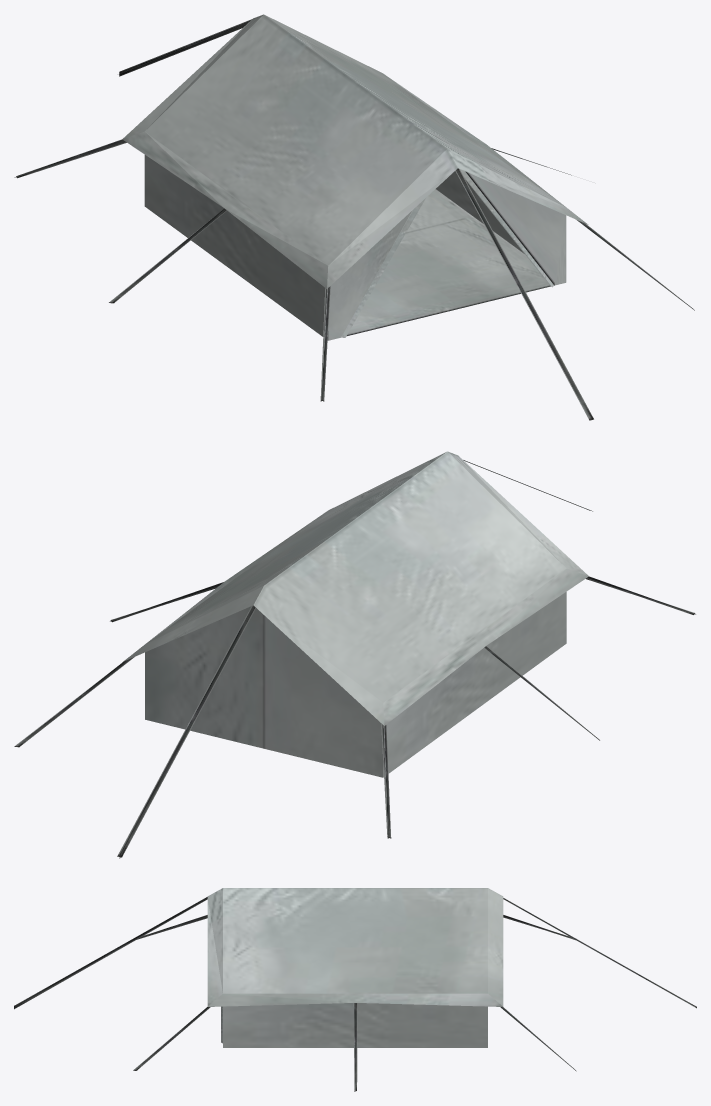
Rendered from Tent02WB.obj.
The picture shows the model from 3 angles, top to bottom: view 1: azimuth 30°, elevation 25°; view 2: azimuth 150°, elevation 25°; view 3: azimuth 270°, elevation 25°; orthographic projection. The views are drawn at different scales.
Visible parts, largest first — view 1: Tent02WB; view 2: Tent02WB; view 3: Tent02WB.
Boxes of the visible parts, box(x1,y1,x2,y2) form: Tent02WB: box(14, 14, 694, 420); Tent02WB: box(14, 451, 695, 858); Tent02WB: box(14, 888, 696, 1091).
Bounding box in the file's own units: 9.29 × 3.03 × 15.46.
